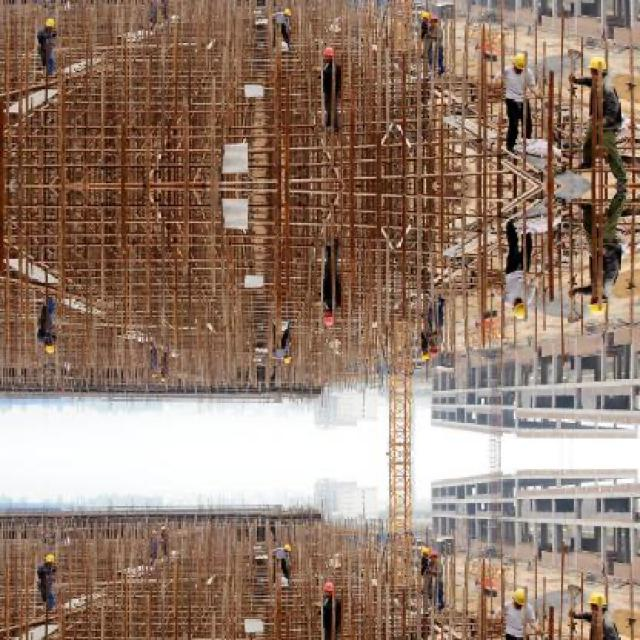con casco: (574, 278, 630, 329), (391, 354, 459, 392), (484, 285, 524, 345), (293, 308, 335, 351)
